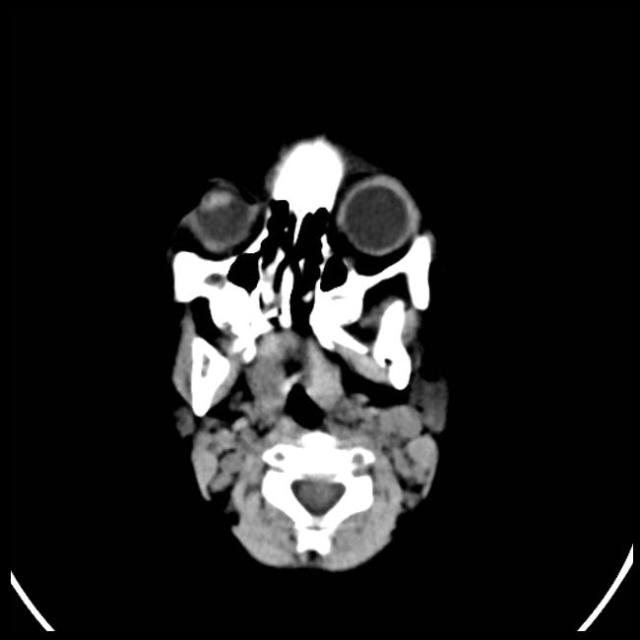lesion: (159, 128, 456, 577)
